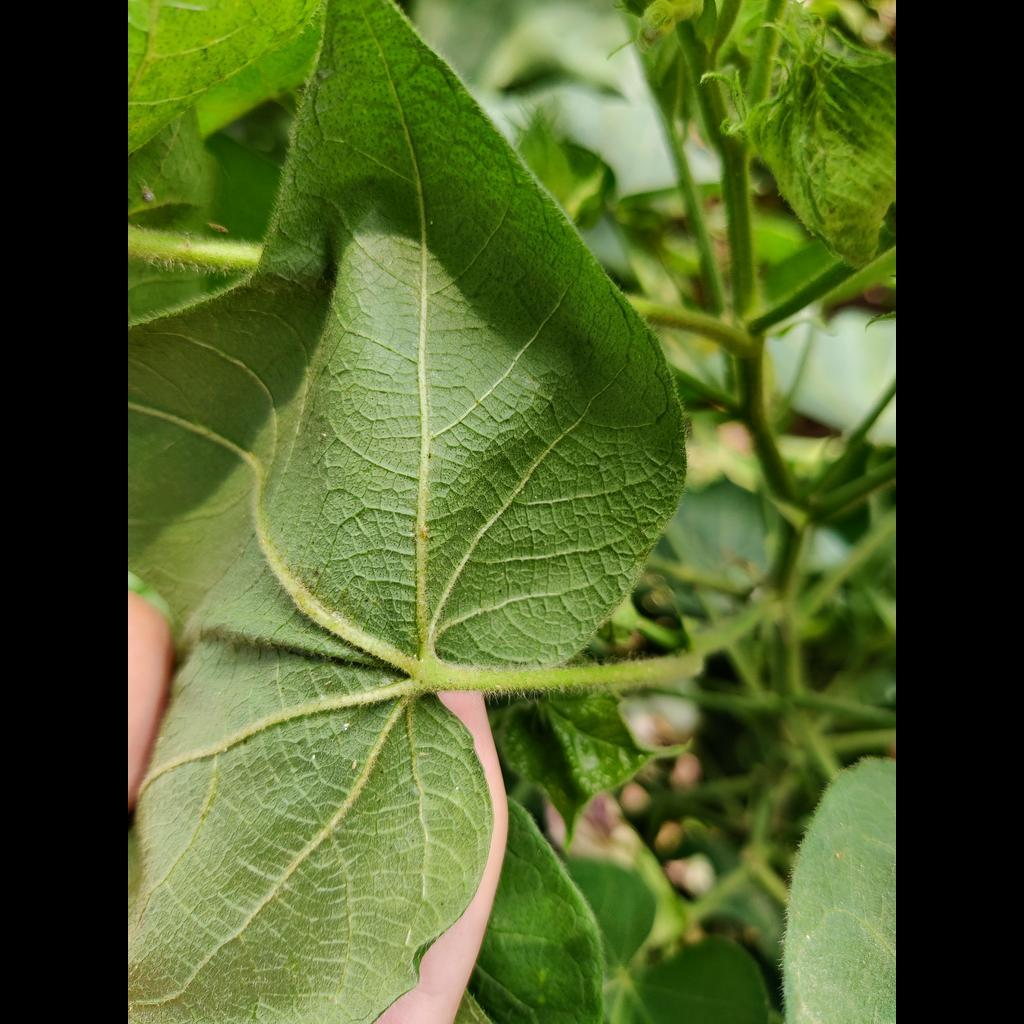nymph: (351, 760, 358, 770), (343, 723, 349, 731), (321, 432, 327, 437), (223, 747, 227, 753), (455, 786, 459, 791), (312, 754, 315, 760), (521, 491, 524, 494)
